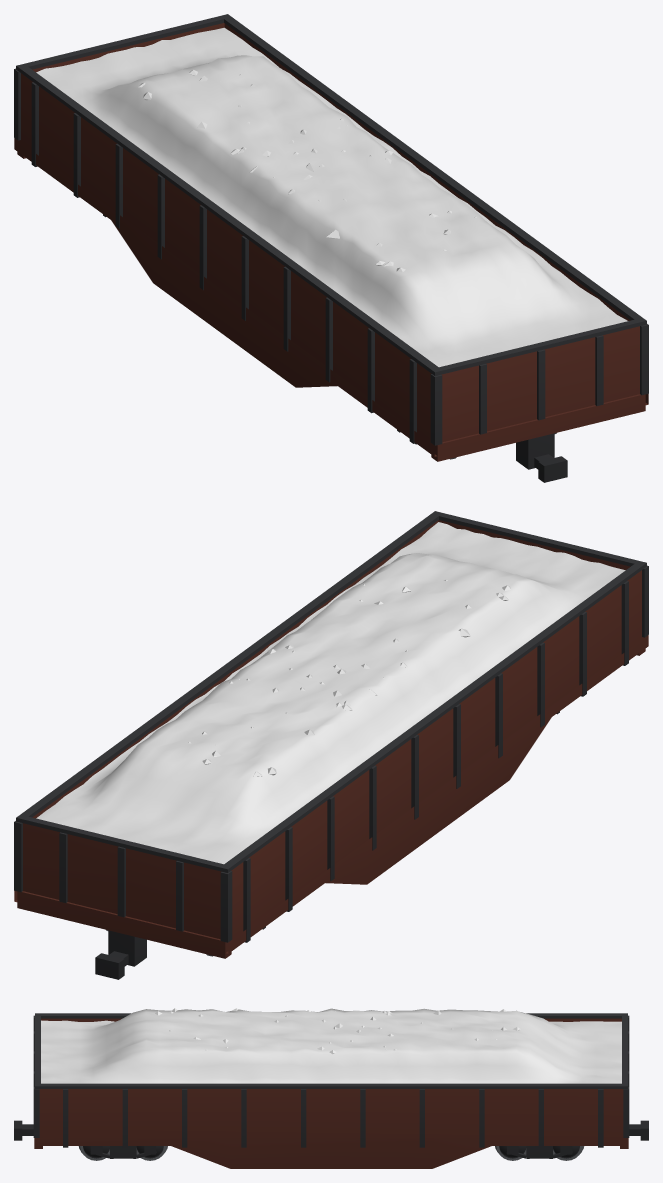
The model's file is open.glb.
3 renders of one model, top to bottom at view 1: azimuth 30°, elevation 25°; view 2: azimuth 150°, elevation 25°; view 3: azimuth 270°, elevation 25°, orthographic. The views are drawn at different scales.
Visible parts, largest first — view 1: Body, Coal; view 2: Body, Coal; view 3: Body, Coal, Far, Wheels_F2, Wheels_R1, Wheels_F1, Wheels_R2.
Part boxes in pixels (x1=…): Body: x1=14, y1=14, x2=648, y2=482; Coal: x1=36, y1=27, x2=627, y2=367; Body: x1=14, y1=511, x2=648, y2=979; Coal: x1=36, y1=522, x2=625, y2=864; Body: x1=14, y1=1013, x2=648, y2=1168; Coal: x1=41, y1=1008, x2=621, y2=1083; Far: x1=82, y1=1146, x2=580, y2=1158; Wheels_F2: x1=495, y1=1146, x2=526, y2=1160; Wheels_R1: x1=136, y1=1146, x2=167, y2=1160; Wheels_F1: x1=553, y1=1146, x2=584, y2=1160; Wheels_R2: x1=78, y1=1146, x2=109, y2=1160.
Bounding box in the file's own units: 5.92 × 4.22 × 21.36.
